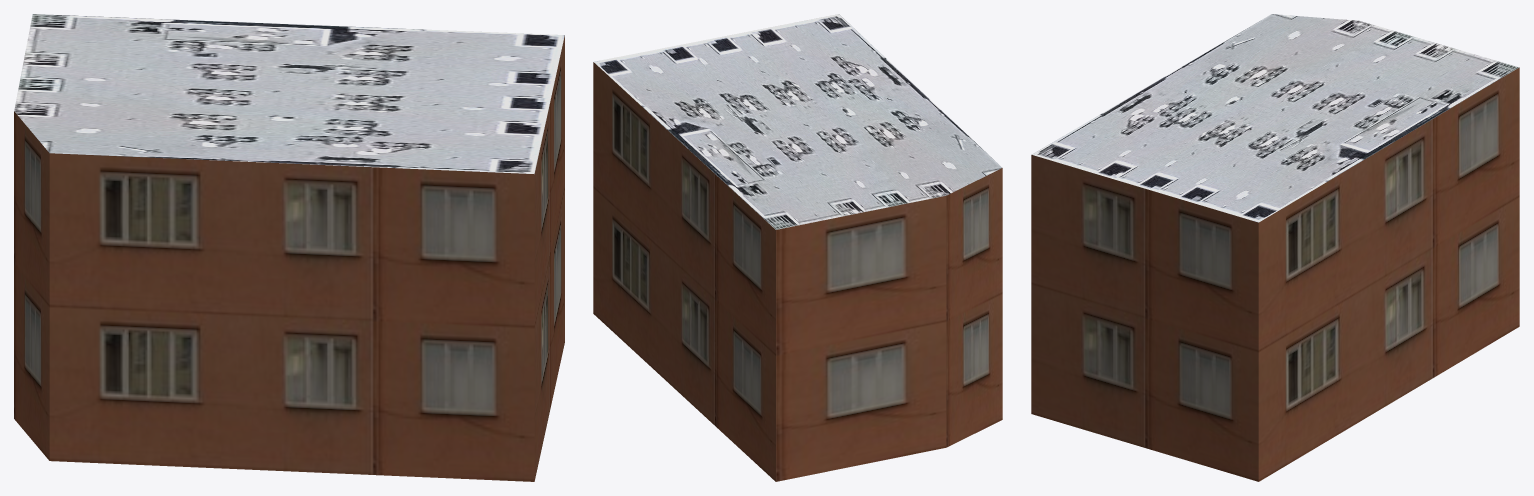
Rendered from ResTex__2442.fbx.
3 renders of one model, left to right at view 1: azimuth 30°, elevation 25°; view 2: azimuth 150°, elevation 25°; view 3: azimuth 270°, elevation 25°, orthographic. The views are drawn at different scales.
Parts seen in each view (by area): view 1: CityEngineMaterial_20_m, CityEngineMaterial_m; view 2: CityEngineMaterial_20_m, CityEngineMaterial_m; view 3: CityEngineMaterial_20_m, CityEngineMaterial_m.
Boxes of the visible parts, x1,y1,x2,y2 form: CityEngineMaterial_20_m: (14, 35, 564, 481); CityEngineMaterial_m: (14, 14, 564, 174); CityEngineMaterial_20_m: (593, 62, 1002, 481); CityEngineMaterial_m: (594, 14, 1002, 229); CityEngineMaterial_20_m: (1031, 67, 1519, 481); CityEngineMaterial_m: (1032, 14, 1518, 222).
Size of the model in its own units: 10.35 by 6 by 10.23.
2 materials, 2 textured.
